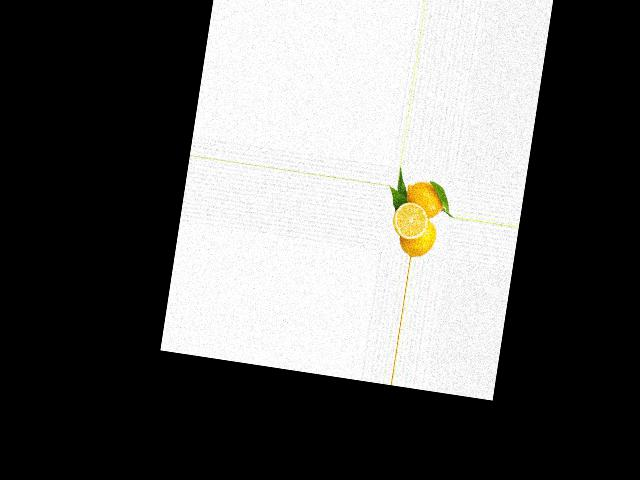lemon: (393, 217, 437, 260)
